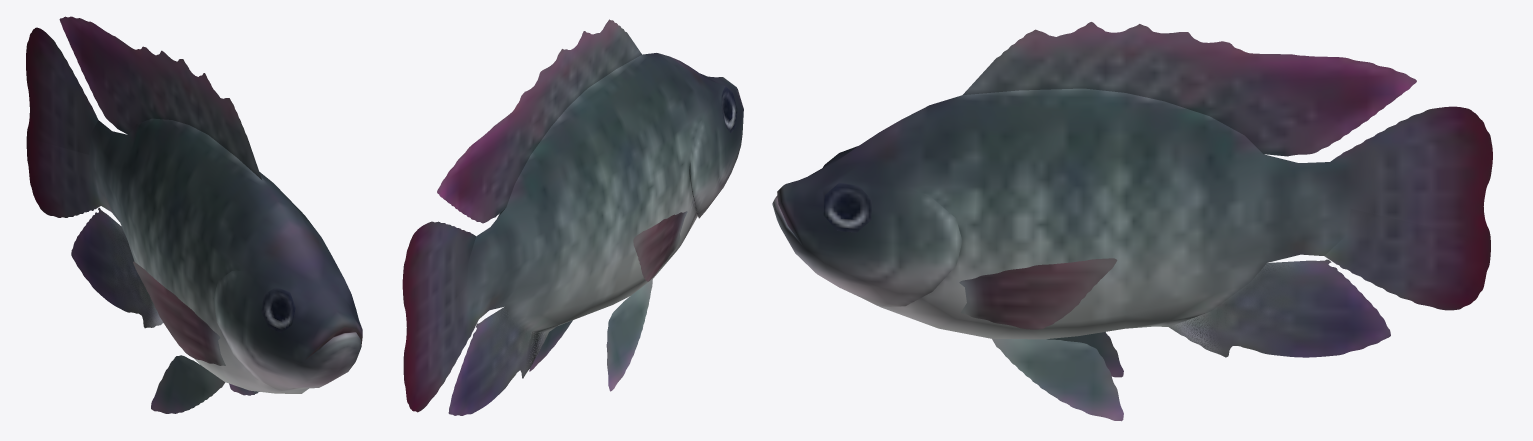
Rendered from tilapia.glb.
3 renders of one model, left to right at view 1: azimuth 30°, elevation 25°; view 2: azimuth 150°, elevation 25°; view 3: azimuth 270°, elevation 25°, orthographic. The views are drawn at different scales.
Bounding box in the file's own units: 1.54 × 4.12 × 7.14.
Materials: 1 (1 with a texture image).
